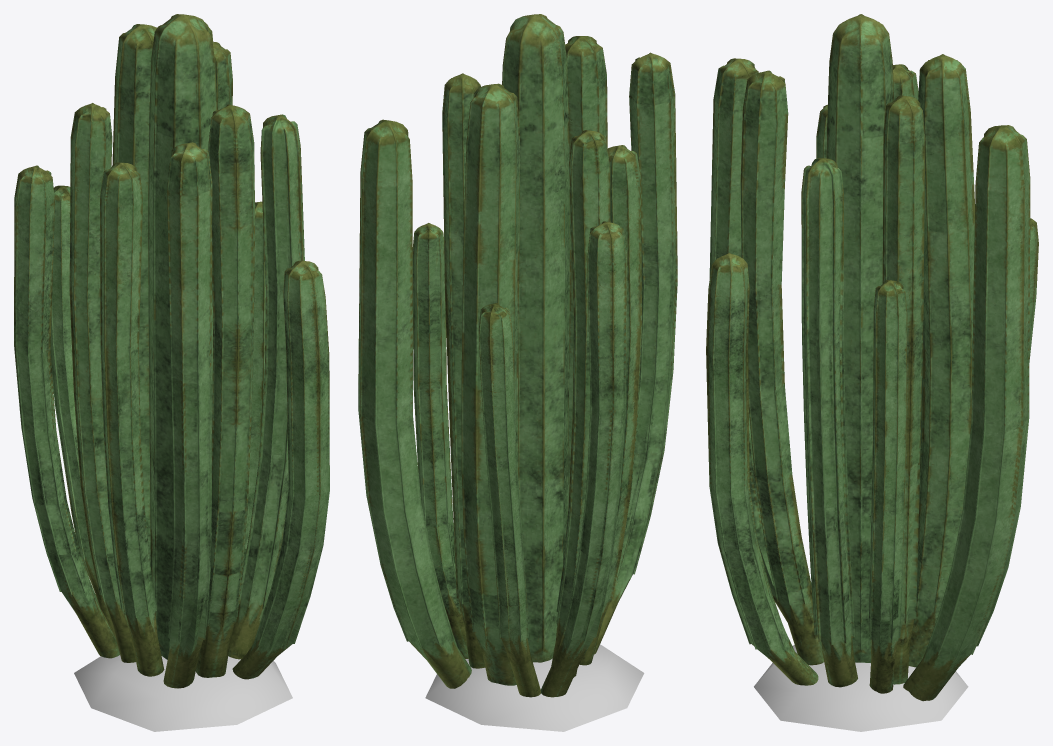
The model's file is Cactus_Pachycereus_Light_Green.fbx.
3 views of the same model, side by side, from view 1: azimuth 30°, elevation 25°; view 2: azimuth 150°, elevation 25°; view 3: azimuth 270°, elevation 25° (orthographic).
Parts seen in each view (by area): view 1: Stem_3, Stem_8, Stem_6, Stem_1, Stem_11, Stem_12, Stem_4, Stem_7, Base, Stem_2, Stem_13, Stem_9 (+1 smaller); view 2: Stem_1, Stem_10, Stem_2, Stem_8, Stem_11, Stem_9, Stem_13, Stem_7, Stem_5, Base, Stem_6, Stem_3; view 3: Stem_10, Stem_2, Stem_1, Stem_3, Stem_4, Stem_12, Stem_5, Stem_9, Base, Stem_8, Stem_13, Stem_7.
Boxes of the visible parts, bbox=[...] form: Stem_3: bbox=[195, 104, 255, 677]; Stem_8: bbox=[163, 142, 212, 688]; Stem_6: bbox=[100, 162, 164, 676]; Stem_1: bbox=[148, 14, 216, 659]; Stem_11: bbox=[14, 165, 119, 658]; Stem_12: bbox=[232, 260, 329, 679]; Stem_4: bbox=[228, 114, 304, 659]; Stem_7: bbox=[69, 103, 135, 662]; Base: bbox=[74, 655, 292, 731]; Stem_2: bbox=[112, 24, 156, 563]; Stem_13: bbox=[50, 185, 113, 631]; Stem_9: bbox=[242, 201, 265, 575]; Stem_1: bbox=[502, 14, 569, 662]; Stem_10: bbox=[358, 119, 471, 688]; Stem_2: bbox=[461, 83, 520, 685]; Stem_8: bbox=[594, 52, 677, 654]; Stem_11: bbox=[541, 221, 627, 697]; Stem_9: bbox=[412, 223, 468, 658]; Stem_13: bbox=[478, 303, 540, 697]; Stem_7: bbox=[551, 130, 610, 677]; Stem_5: bbox=[442, 73, 485, 668]; Base: bbox=[425, 644, 644, 731]; Stem_6: bbox=[579, 145, 642, 665]; Stem_3: bbox=[565, 36, 607, 510]; Stem_10: bbox=[903, 125, 1030, 701]; Stem_2: bbox=[908, 54, 974, 667]; Stem_1: bbox=[826, 14, 893, 662]; Stem_3: bbox=[740, 70, 823, 665]; Stem_4: bbox=[801, 158, 857, 687]; Stem_12: bbox=[706, 253, 818, 685]; Stem_5: bbox=[882, 95, 925, 684]; Stem_9: bbox=[868, 280, 907, 693]; Base: bbox=[754, 645, 968, 731]; Stem_8: bbox=[709, 58, 787, 621]; Stem_13: bbox=[1029, 218, 1038, 362]; Stem_7: bbox=[893, 64, 918, 100].
Bounding box in the file's own units: 3.48 × 9.47 × 4.26.
